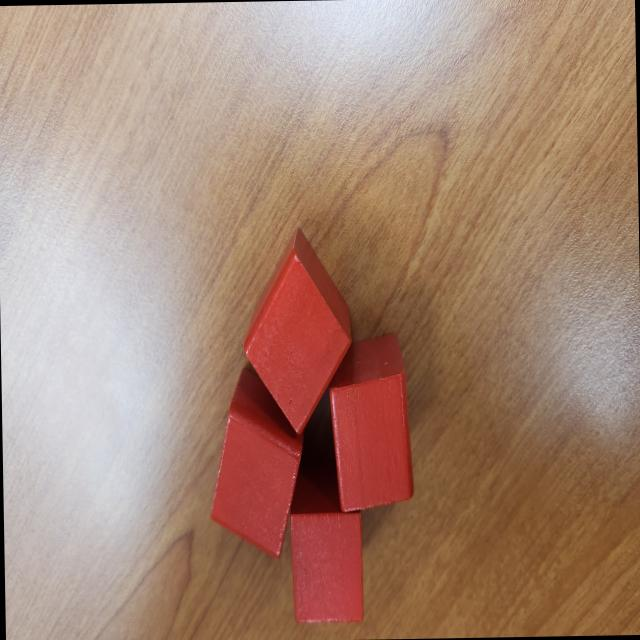red: (240, 226, 353, 438), (207, 366, 306, 562), (327, 333, 414, 514), (288, 506, 364, 626)
